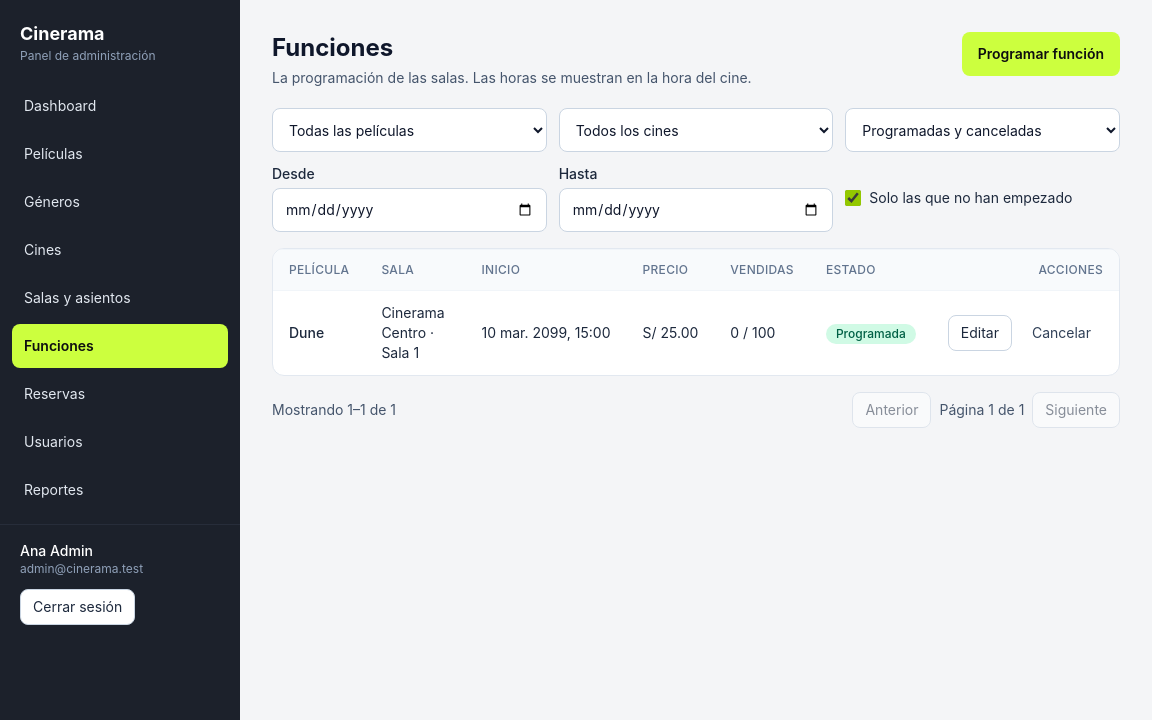
Scenario: Funciones › no se puede confirmar la cancelación mientras no se conoce el número de reservas
Click the button with aria-label "Cancelar la función de Dune": (1062,333) [1020,315,1103,351]
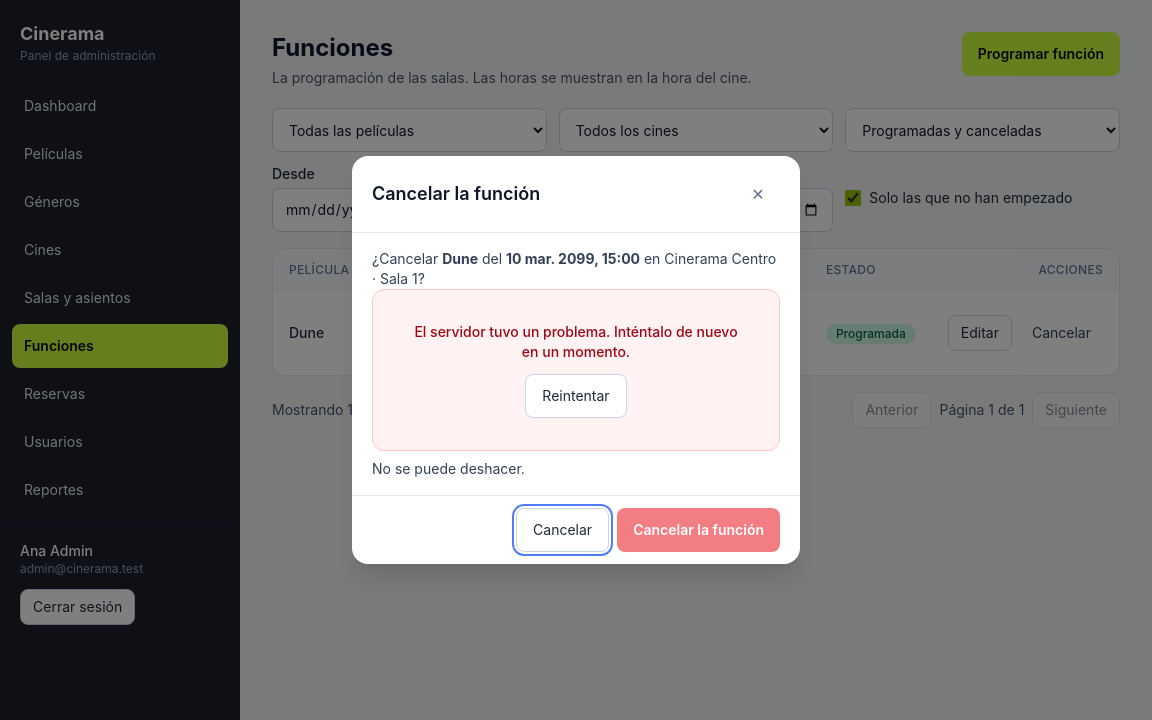
Expected: the message "El servidor tuvo un problema. Inténtalo de nuevo en un momento. Reintentar" is shown, [372,289,780,451]
Expected: the button "Cancelar la función" is disabled, [617,508,780,552]
